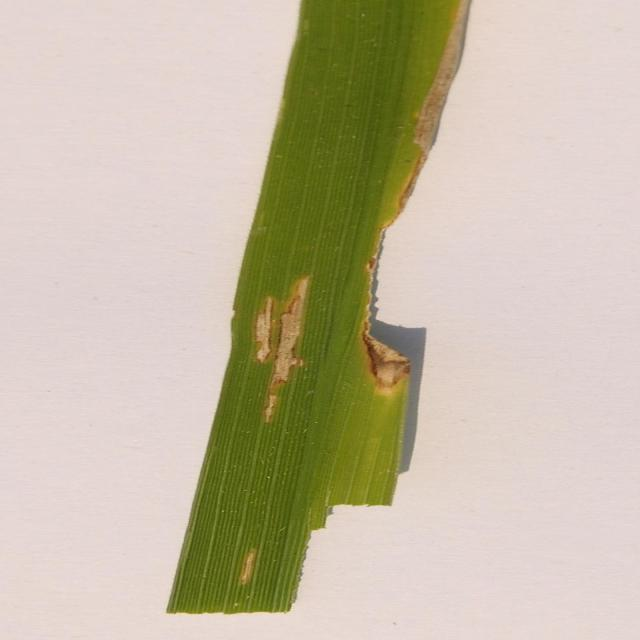Bacterial leaf blight: (155, 1, 508, 640)
